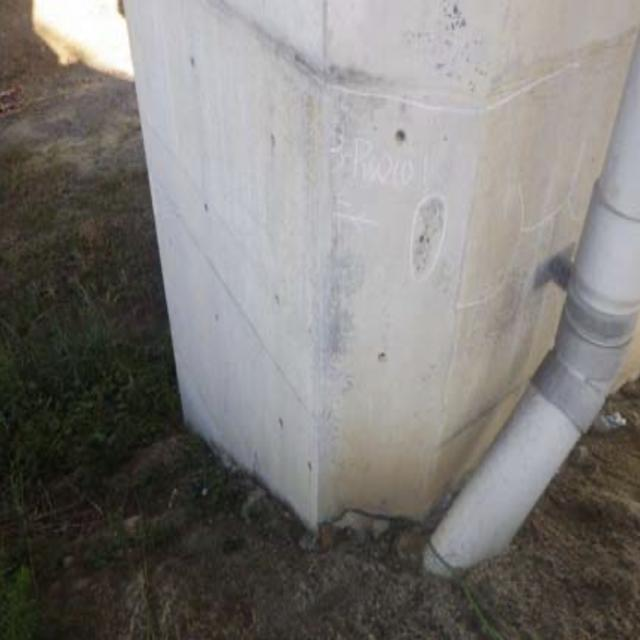spalling: (384, 183, 457, 297)
